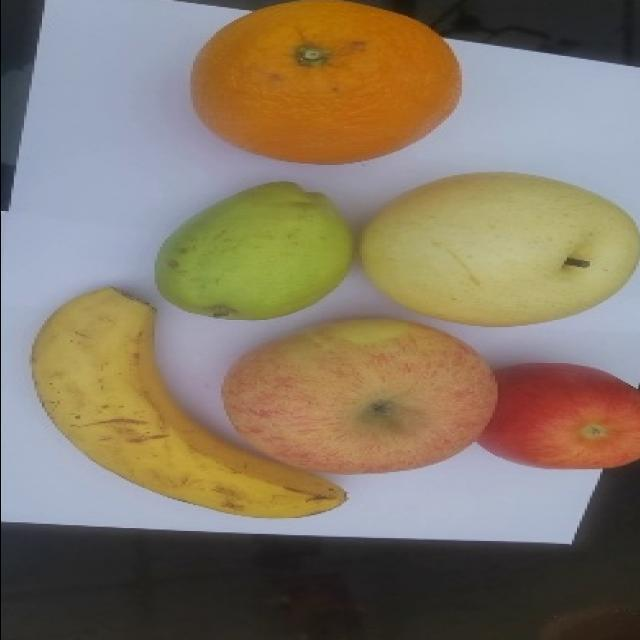Apple: (220, 315, 498, 474), (476, 361, 639, 469)
Banana: (29, 285, 348, 519)
Orange: (189, 0, 462, 165)
